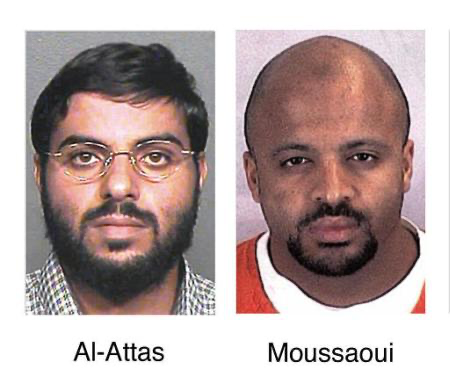Face: (259, 89, 406, 277), (52, 98, 194, 277)
